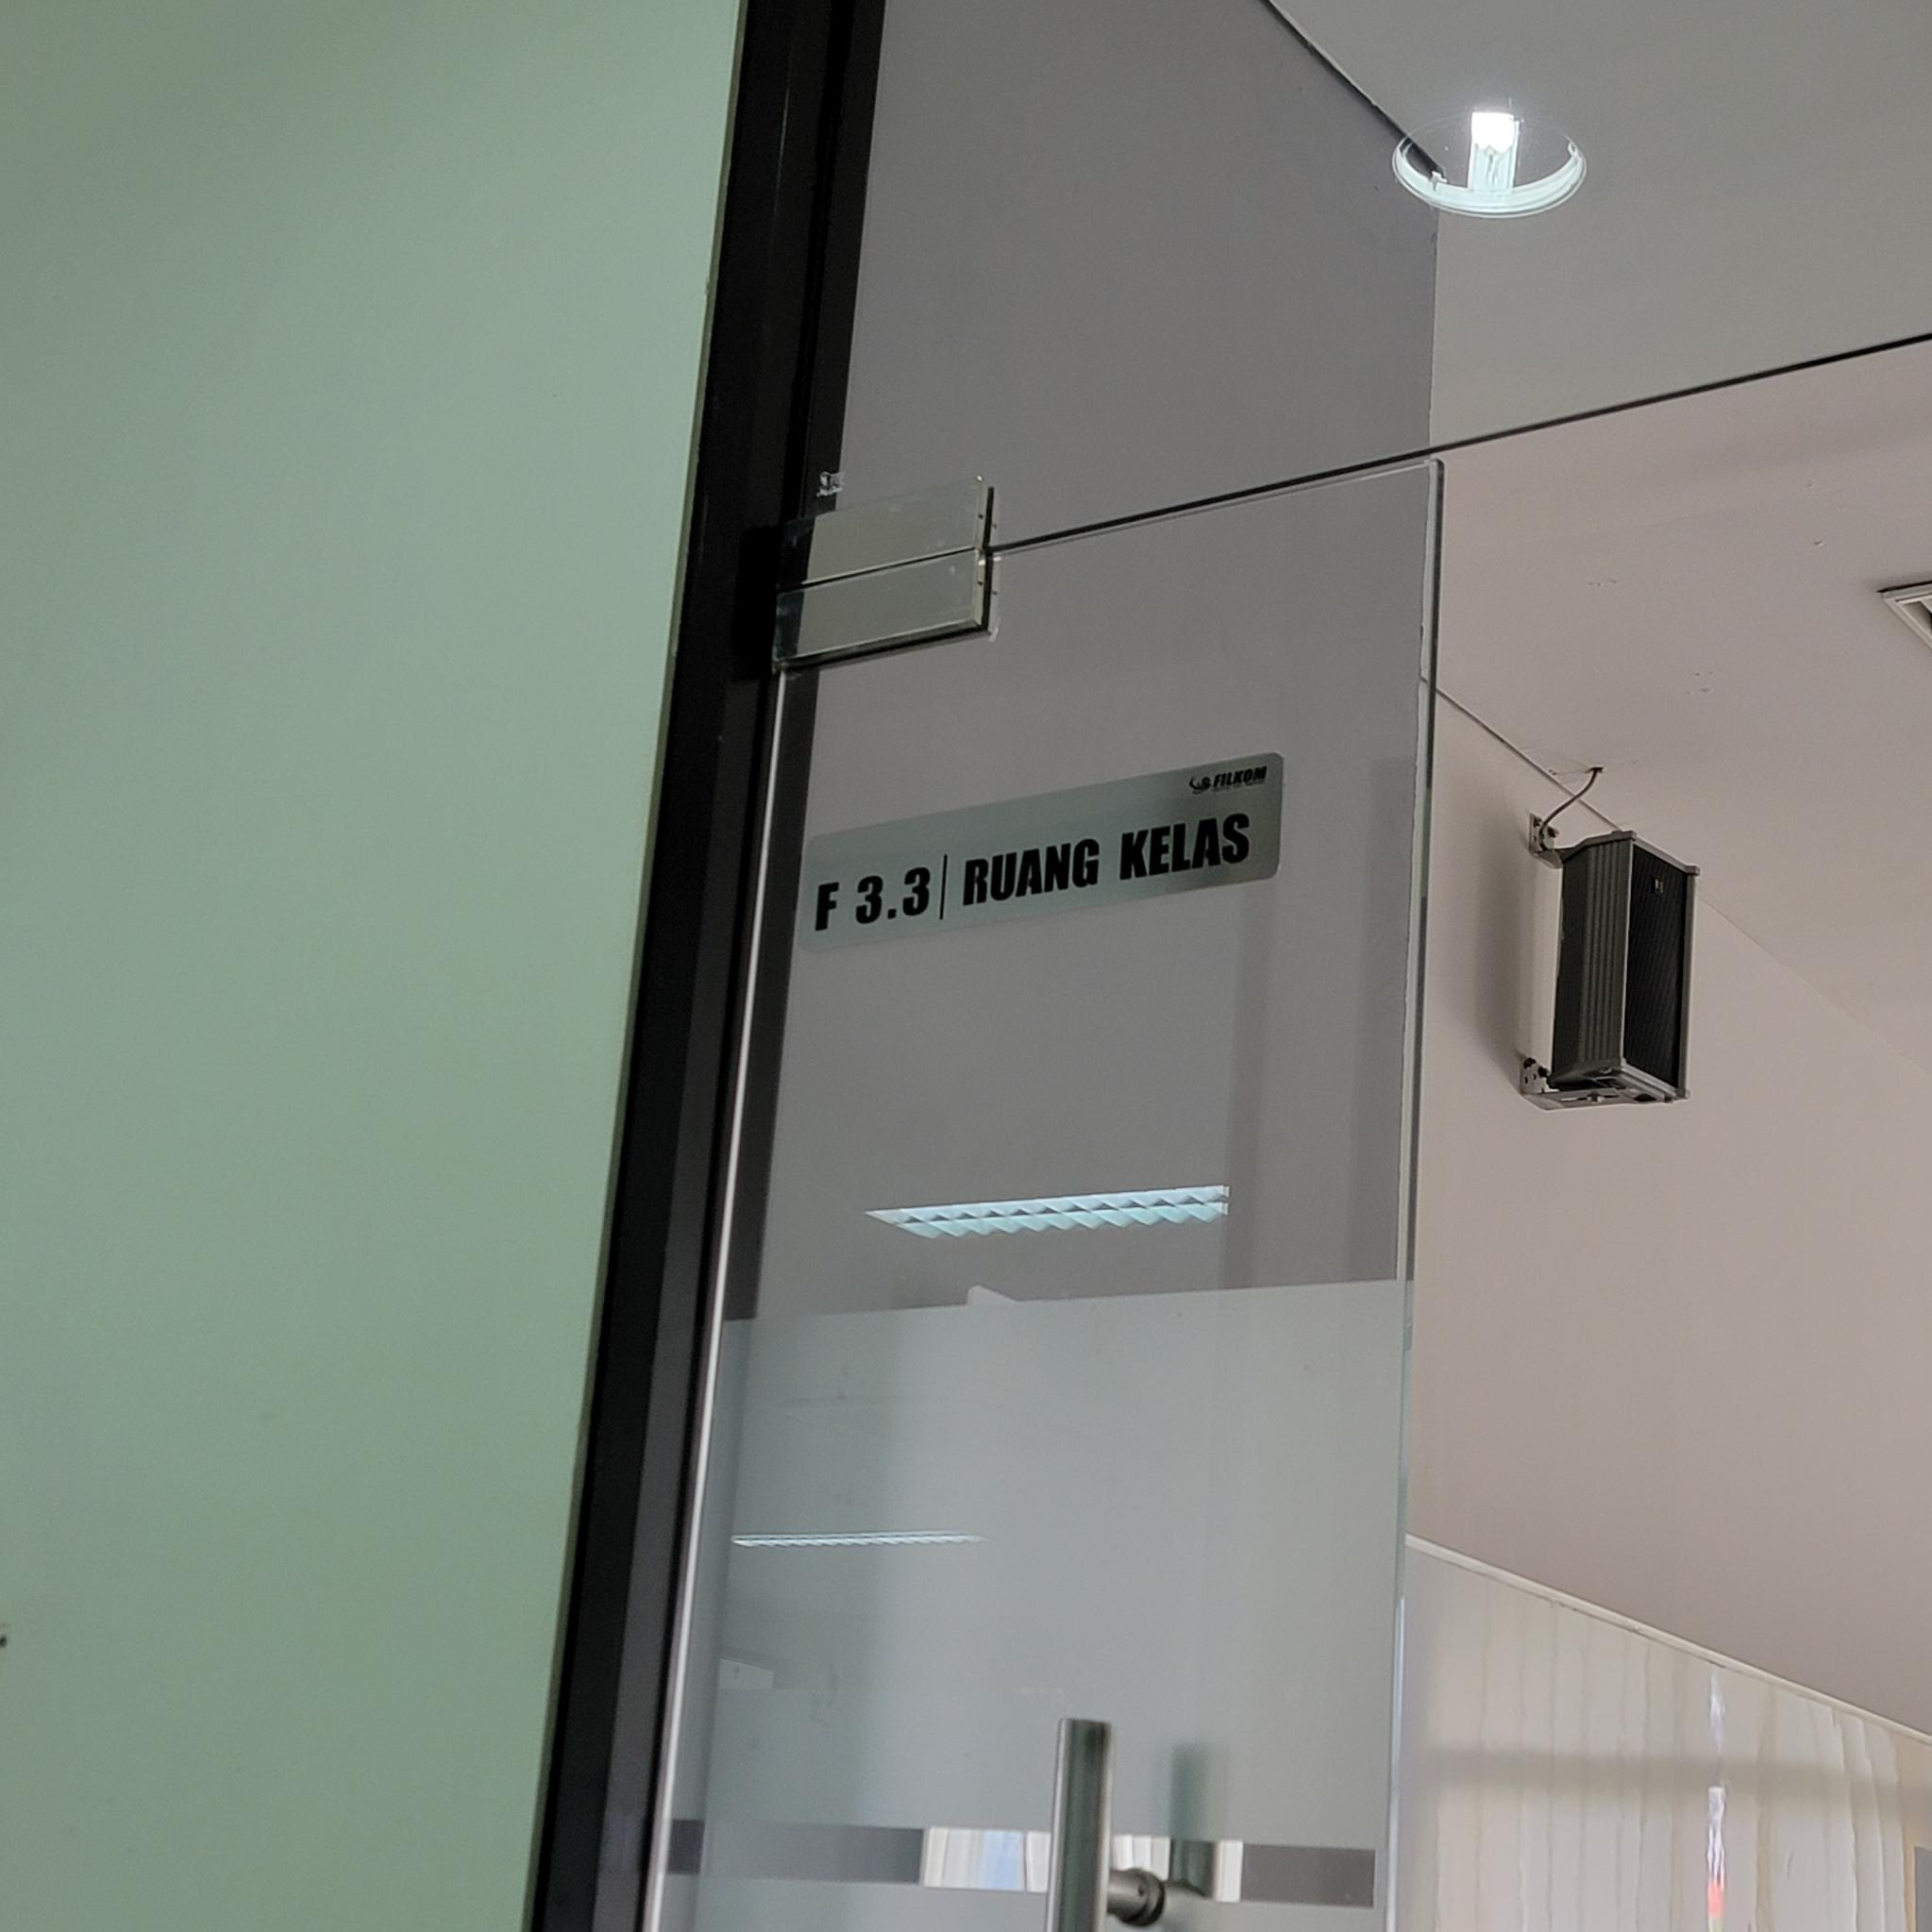plate: (794, 747, 1284, 961)
